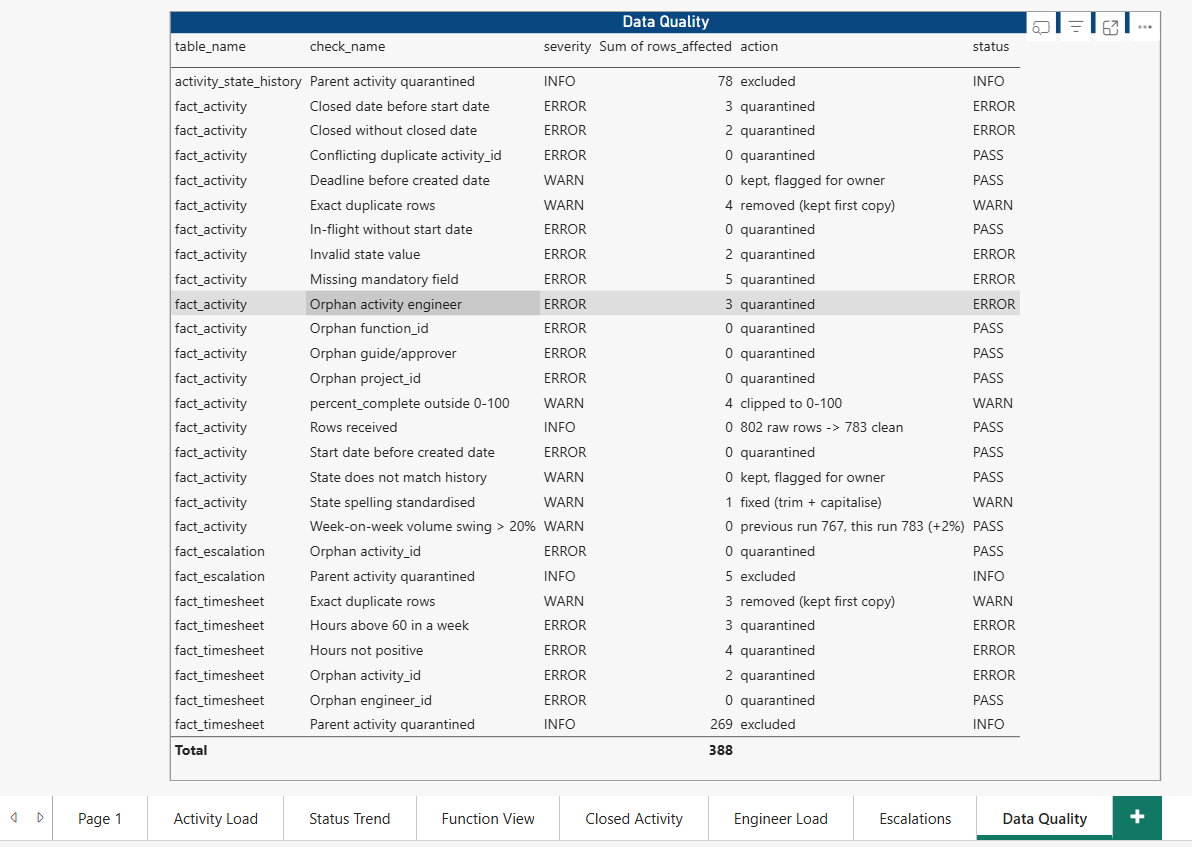

Layout of this report page (visuals, bound fields, positions):
{"tool":"powerbi","page":{"name":"Data Quality","canvas":[1920,1080],"ordinal":7},"visuals":[{"type":"tableEx","title":"Data Quality","fields":{"Values":["dq_latest.table_name","dq_latest.check_name","dq_latest.severity","Sum(dq_latest.rows_affected)","dq_latest.action","dq_latest.status"]},"box":[298.3,26.7,1321.7,1026.7],"z":0}]}

Visuals, with their boxes on the page's 1920x1080 design canvas (x1, y1, x2, y2). These are canvas units, not pixel positions in the 1192x847 screenshot, which may show the page scaled, cropped or inside an application window:
"Data Quality" tableEx: {"left": 298, "top": 27, "right": 1620, "bottom": 1053}
